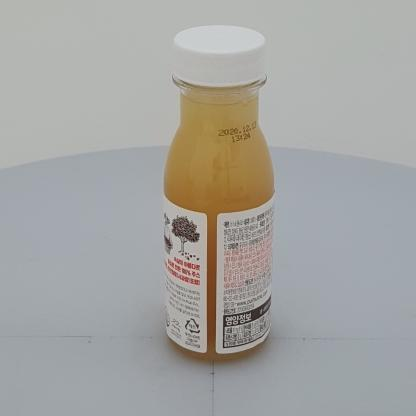--------------215ML: (163, 25, 275, 361)
